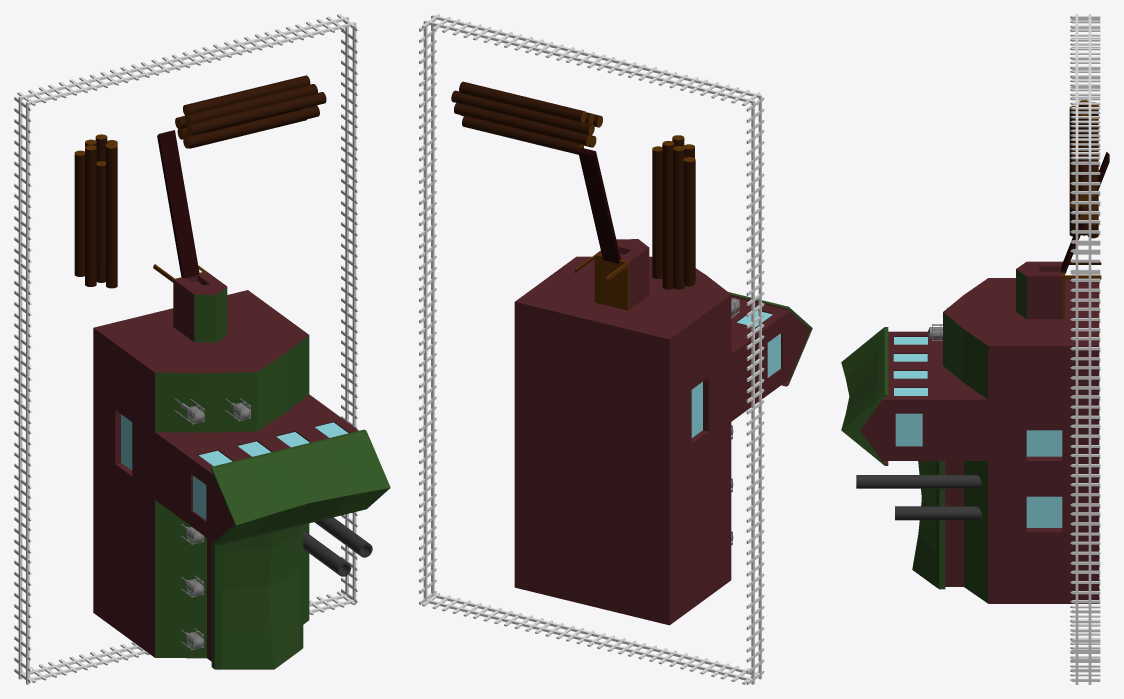
File: lumberMill2.fbx
The picture shows the model from 3 angles, left to right: view 1: azimuth 30°, elevation 25°; view 2: azimuth 150°, elevation 25°; view 3: azimuth 270°, elevation 25°; orthographic projection. The views are drawn at different scales.
Visible parts, largest first — view 1: Cube, Cube.004, Cube.003, Cube.005, Cube.006, Cylinder, Cylinder.009, Cylinder.017, FactoryEmpty, Cylinder.016, Cylinder.008, Cylinder.006 (+3 smaller); view 2: Cube, Cube.003, Cube.004, Cube.005, Cube.006, Cylinder.002, Cylinder.011, Cylinder.013, Cylinder.001, Cylinder.003, Cylinder.012, Cylinder.010 (+1 smaller); view 3: Cube, Cube.003, Cube.005, Cylinder, Cube.006, Cube.004, Cylinder.009.
Boxes of the visible parts, bbox=[...] form: Cube: bbox=[93, 130, 390, 669]; Cube.004: bbox=[14, 96, 31, 684]; Cube.003: bbox=[341, 17, 358, 605]; Cube.005: bbox=[17, 14, 355, 105]; Cube.006: bbox=[18, 591, 354, 682]; Cylinder: bbox=[303, 517, 372, 576]; Cylinder.009: bbox=[187, 92, 326, 135]; Cylinder.017: bbox=[106, 143, 117, 288]; FactoryEmpty: bbox=[174, 398, 251, 650]; Cylinder.016: bbox=[85, 145, 96, 286]; Cylinder.008: bbox=[183, 105, 319, 148]; Cylinder.006: bbox=[185, 84, 317, 124]; Cube: bbox=[514, 147, 812, 625]; Cube.003: bbox=[419, 15, 436, 604]; Cube.004: bbox=[746, 95, 764, 684]; Cube.005: bbox=[422, 14, 761, 105]; Cube.006: bbox=[422, 592, 760, 684]; Cylinder.002: bbox=[451, 90, 594, 135]; Cylinder.011: bbox=[662, 141, 674, 289]; Cylinder.013: bbox=[683, 157, 695, 283]; Cylinder.001: bbox=[459, 81, 586, 122]; Cylinder.003: bbox=[454, 103, 592, 145]; Cylinder.012: bbox=[673, 146, 684, 289]; Cylinder.010: bbox=[652, 146, 662, 278]; Cube: bbox=[841, 152, 1109, 603]; Cube.003: bbox=[1070, 159, 1100, 684]; Cube.005: bbox=[1070, 14, 1100, 159]; Cylinder: bbox=[856, 475, 981, 520]; Cube.006: bbox=[1070, 537, 1100, 679]; Cube.004: bbox=[1070, 18, 1100, 537]; Cylinder.009: bbox=[1069, 141, 1080, 209].
Bounding box in the file's own units: 2.96 × 5 × 2.31.
